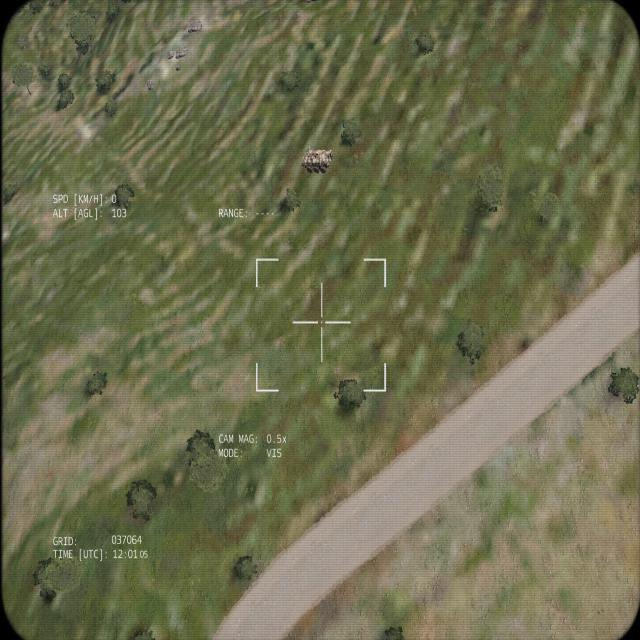apc: (300, 146, 332, 174)
